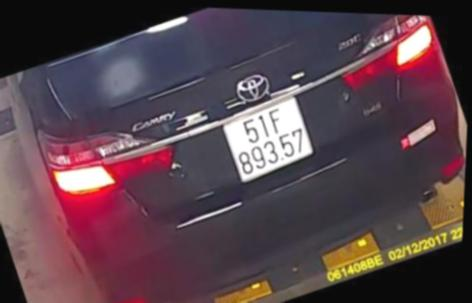License_Plate: (213, 95, 317, 183)
